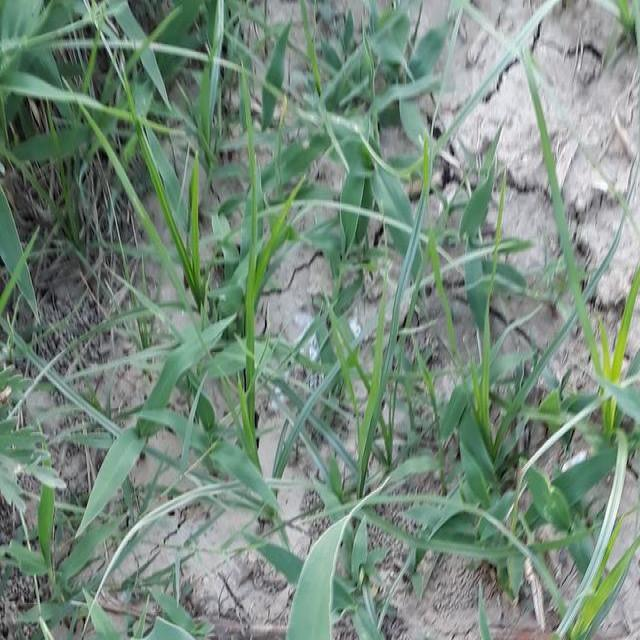weed: (10, 344, 640, 640), (0, 0, 514, 323)
